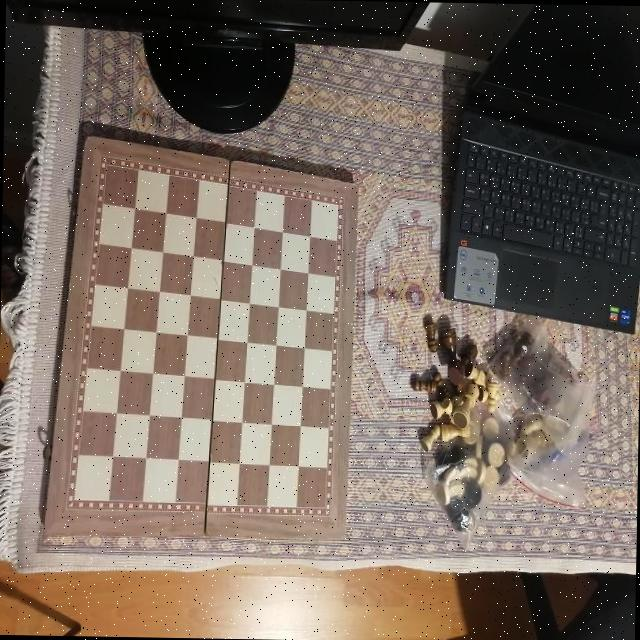corners: (80, 127, 98, 146), (38, 524, 54, 542), (335, 530, 350, 546), (350, 180, 364, 196)
